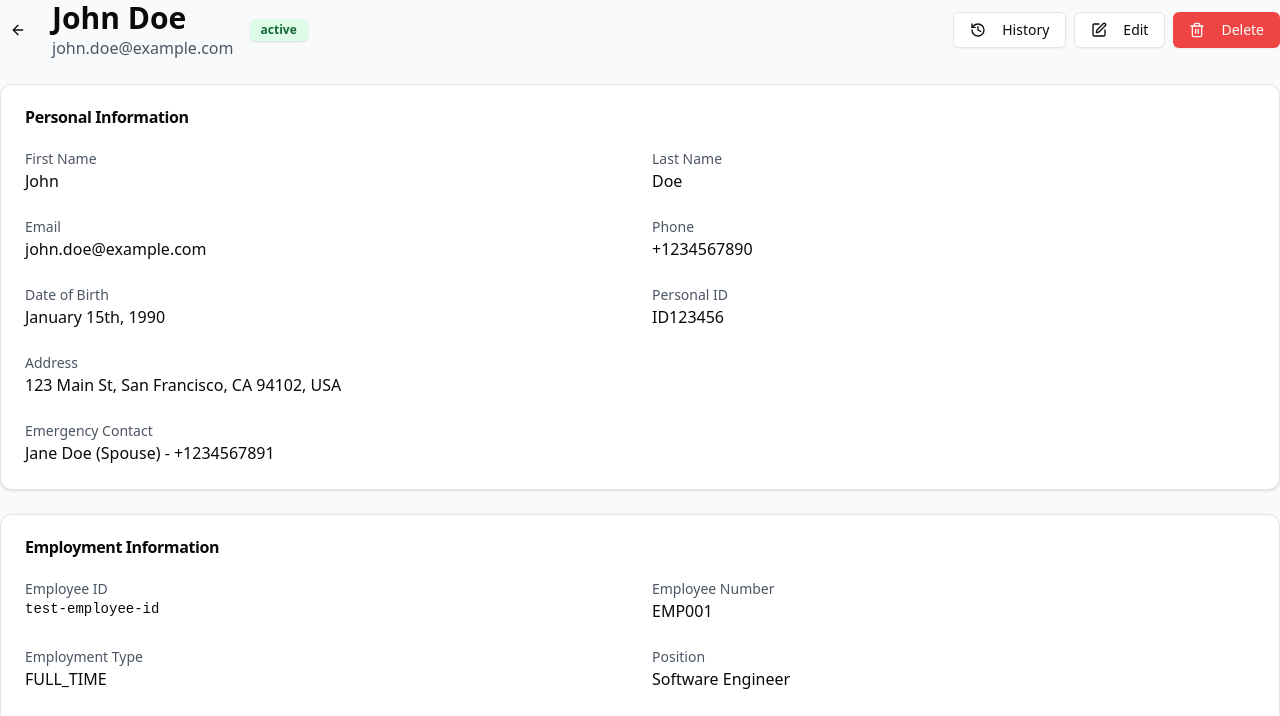
it: EmployeeDetail › History View › shows loading state while fetching history
Click the button "History" at (1010, 30), box [953,12,1066,48]
(page scrolled)
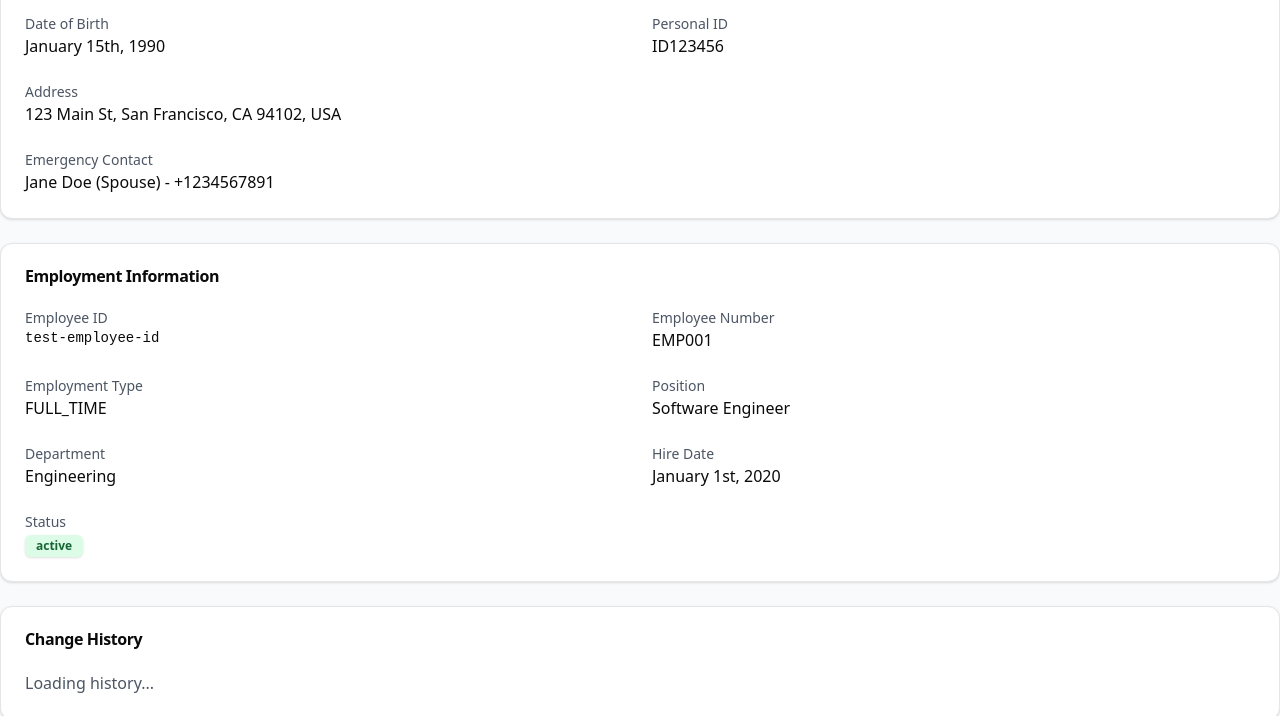
Result: the text "Loading history..." is shown at [25,672,154,694]
